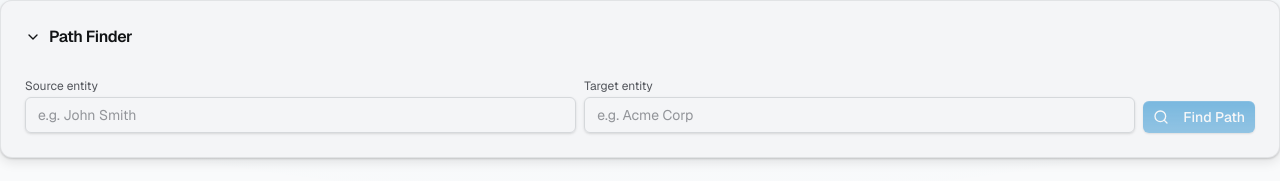
it: PathFinder › enables Find Path button when both inputs have values
In the field with placeholder "e.g. John Smith": (301, 115) [25, 97, 576, 133], type "Alice"
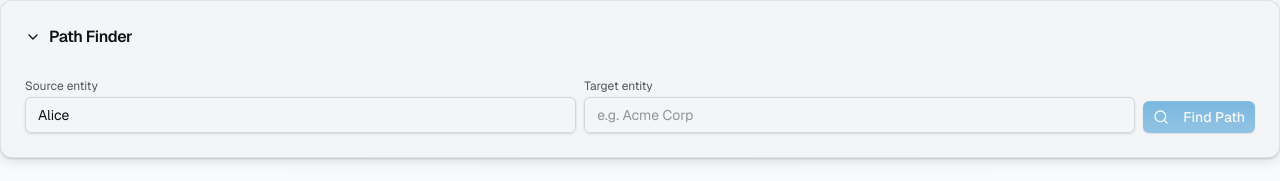
In the field with placeholder "e.g. Acme Corp": (860, 115) [584, 97, 1135, 133], type "Bob"
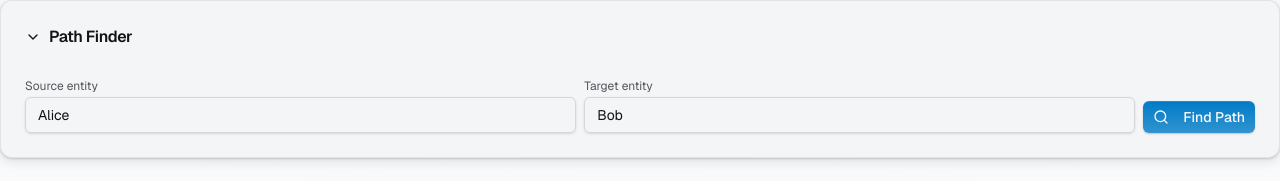
Result: the button "Find Path" is enabled at [1143, 101, 1255, 133]
